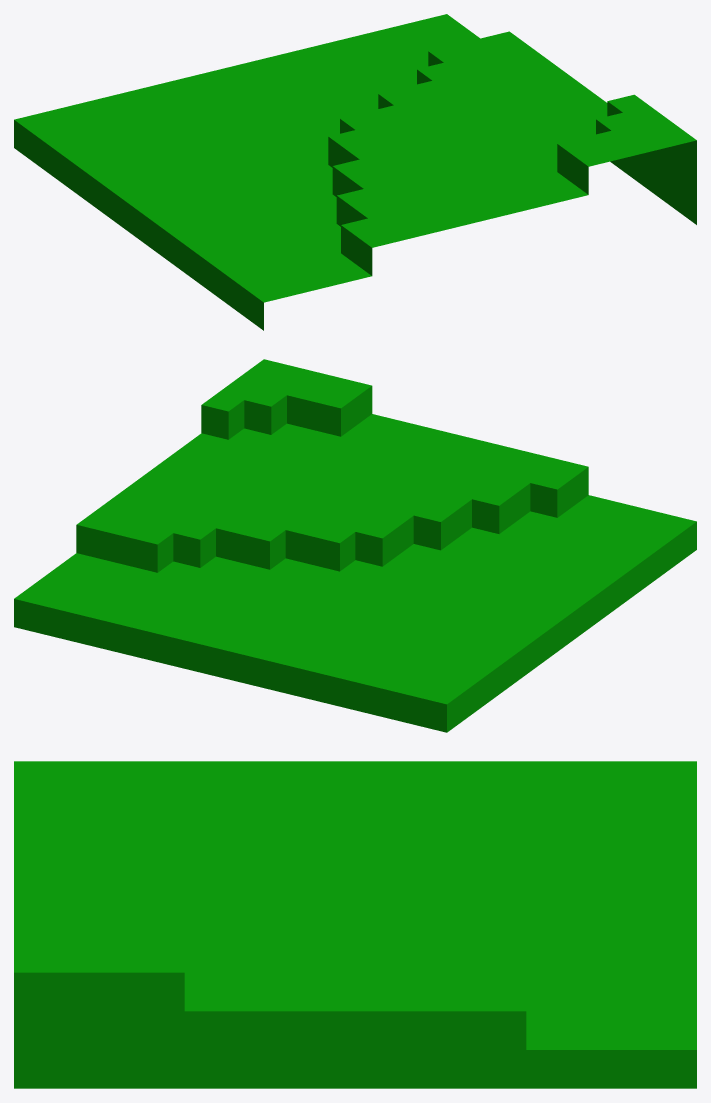
Rendered from Corner12.fbx.
The picture shows the model from 3 angles, top to bottom: view 1: azimuth 30°, elevation 25°; view 2: azimuth 150°, elevation 25°; view 3: azimuth 270°, elevation 25°; orthographic projection. The views are drawn at different scales.
Parts seen in each view (by area): view 1: Matrix; view 2: Matrix; view 3: Matrix.
Boxes of the visible parts, <box> form: Matrix: <box>14,14,696,330</box>; Matrix: <box>14,359,696,732</box>; Matrix: <box>14,761,696,1088</box>.
Bounding box in the file's own units: 16 × 3 × 16.
Materials: 1 (1 with a texture image).
